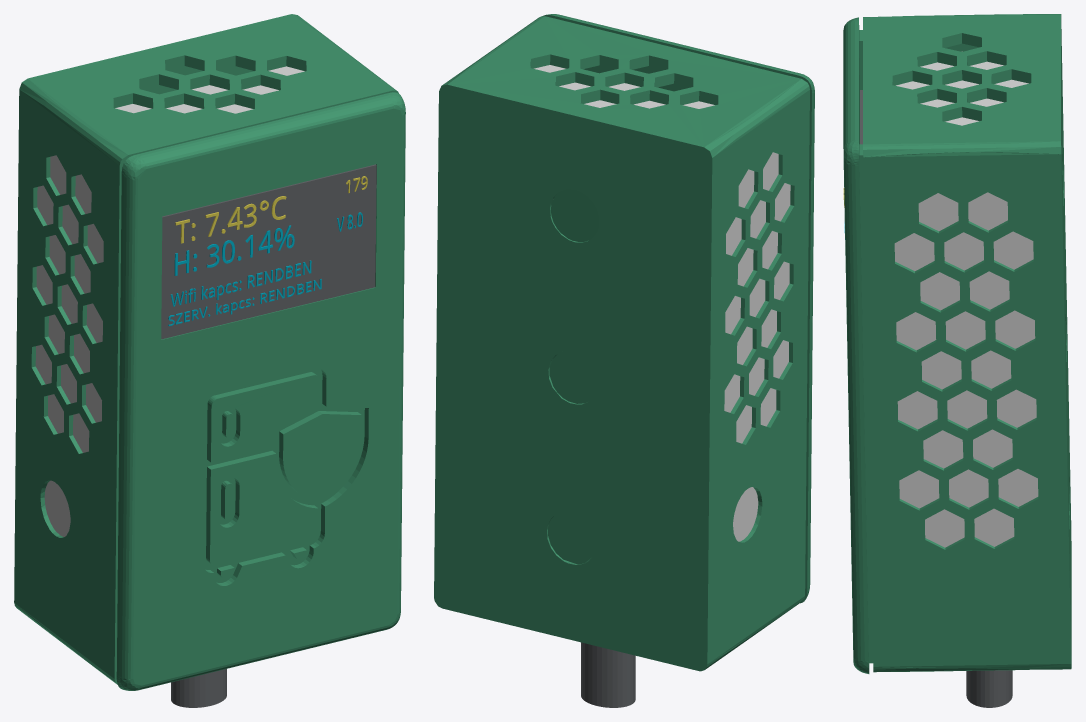
The model's file is zold_zold.glb.
3 renders of one model, left to right at view 1: azimuth 30°, elevation 25°; view 2: azimuth 150°, elevation 25°; view 3: azimuth 270°, elevation 25°, orthographic. The views are drawn at different scales.
Parts seen in each view (by area): view 1: Mesh_Mesh_head_geo.001_lambert2SG.001; view 2: Mesh_Mesh_head_geo.001_lambert2SG.001; view 3: Mesh_Mesh_head_geo.001_lambert2SG.001.
Boxes of the visible parts, x1=… form: Mesh_Mesh_head_geo.001_lambert2SG.001: x1=14, y1=14, x2=405, y2=707; Mesh_Mesh_head_geo.001_lambert2SG.001: x1=434, y1=14, x2=814, y2=707; Mesh_Mesh_head_geo.001_lambert2SG.001: x1=843, y1=14, x2=1071, y2=707.
Size of the model in its own units: 33 by 70.15 by 23.52.
